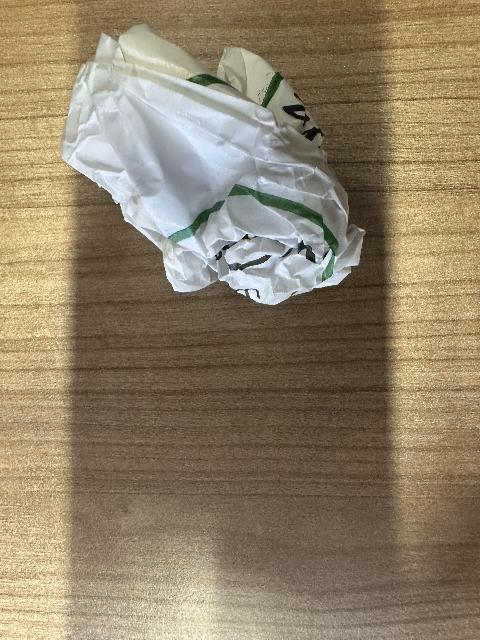Kagit: (57, 21, 368, 303)
